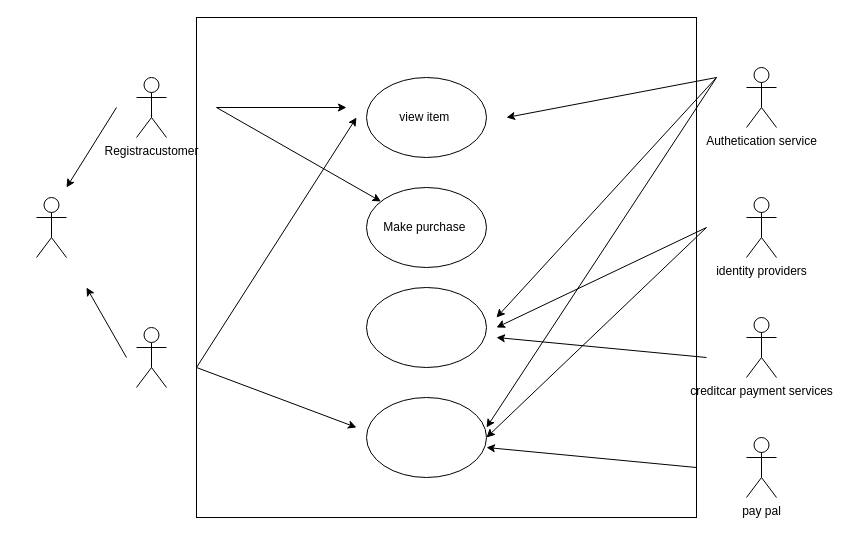
The diagram is 850 pixels wide and 536 high, and some of its shapes have lost their labels. The shapes that lost their labels are listed below. From the top down, each one's box as (x1, y1, x2, y2) in pixels, then its label:
(36, 196, 66, 258): web custmer
(366, 286, 486, 368): Checkout
(136, 326, 166, 388): new customer
(366, 396, 486, 478): Cilent registration
